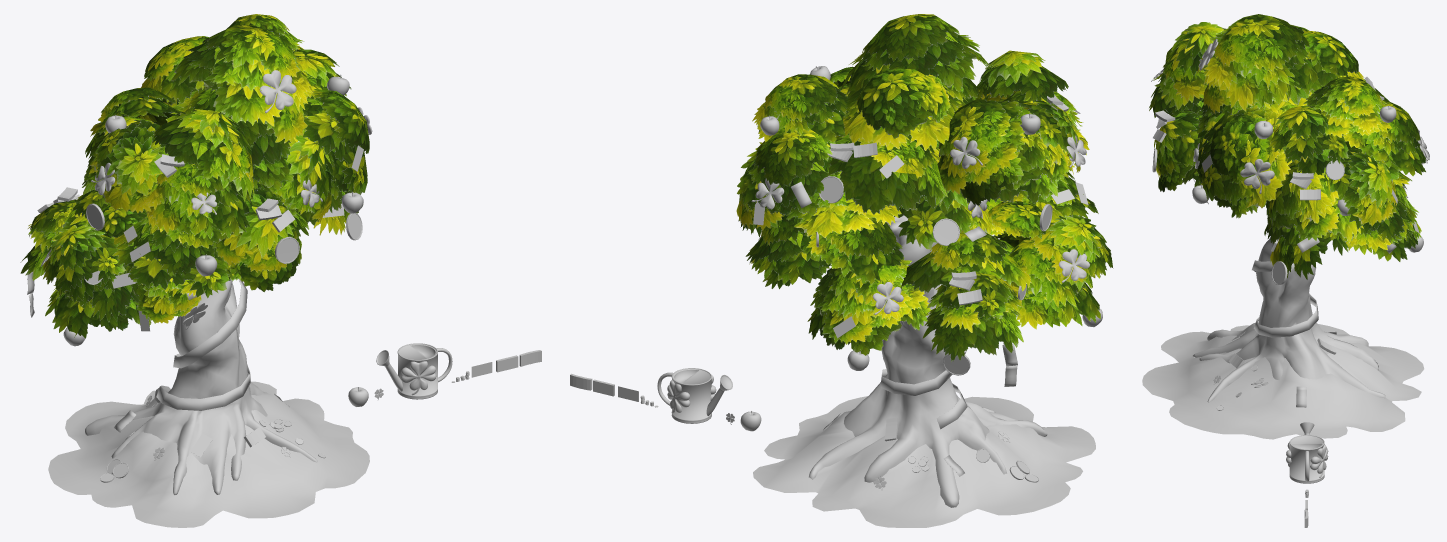
Rendered from Money Tree.fbx.
3 views of the same model, side by side, from view 1: azimuth 30°, elevation 25°; view 2: azimuth 150°, elevation 25°; view 3: azimuth 270°, elevation 25° (orthographic). The views are drawn at different scales.
Parts seen in each view (by area): view 1: Cutout_Money Tree Leaf, Money Tree, Money Tree_Property, Watering Can; view 2: Cutout_Money Tree Leaf, Money Tree, Money Tree_Property, Watering Can; view 3: Cutout_Money Tree Leaf, Money Tree, Money Tree_Property, Watering Can.
Boxes of the visible parts, x1,y1,x2,y2 form: Cutout_Money Tree Leaf: [20, 14, 369, 338]; Money Tree: [48, 280, 369, 527]; Money Tree_Property: [27, 70, 372, 482]; Watering Can: [376, 343, 452, 399]; Cutout_Money Tree Leaf: [736, 14, 1113, 362]; Money Tree: [753, 215, 1095, 527]; Money Tree_Property: [751, 32, 1102, 490]; Watering Can: [657, 368, 732, 423]; Cutout_Money Tree Leaf: [1149, 14, 1427, 279]; Money Tree: [1142, 237, 1424, 439]; Money Tree_Property: [1151, 39, 1429, 410]; Watering Can: [1286, 422, 1328, 483].
Bounding box in the file's own units: 3.72 × 2.96 × 2.09.
